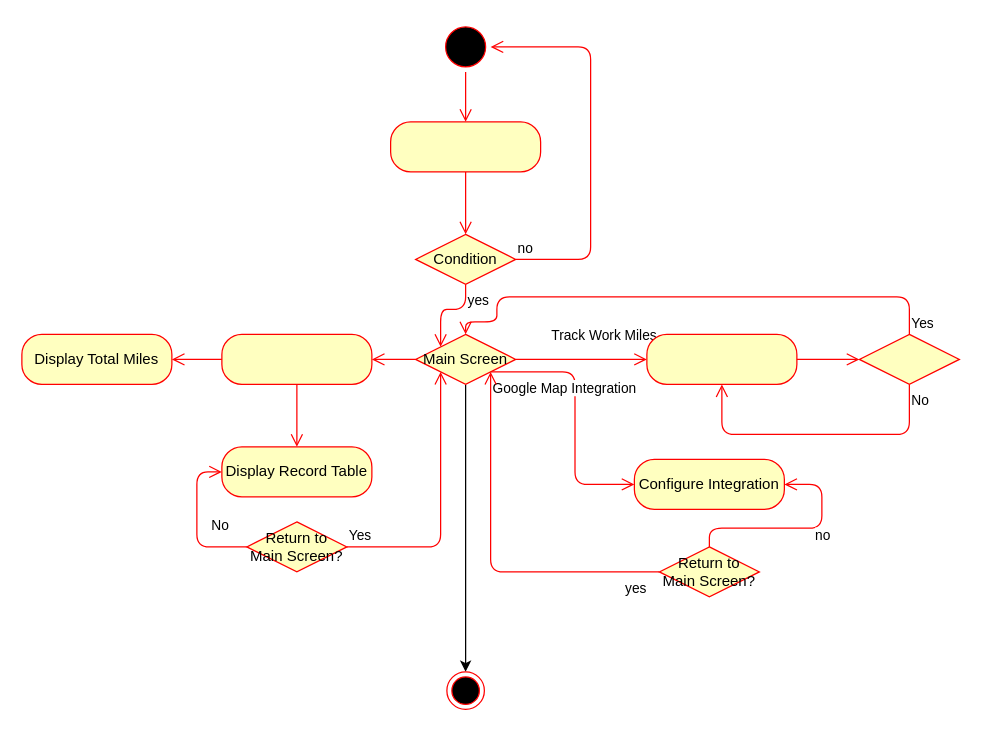
The diagram is 981 pixels wide and 731 high, and some of its shapes have lost their labels. The centre of each missing label's shape, as x and y in pixels:
Input (Add) Work Miles: the point at 721,358
Open Application: the point at 465,146
Return to Main Screen: the point at 908,358
View Records: the point at 296,358
